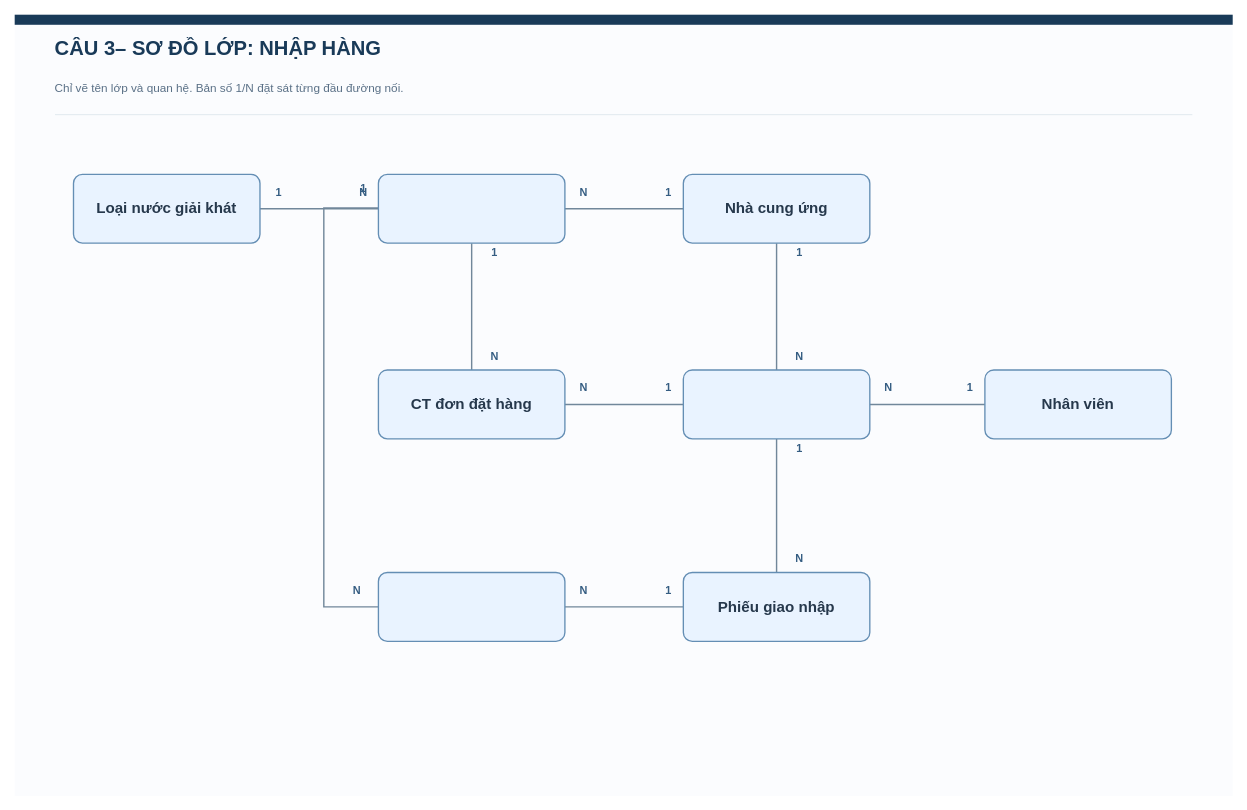
Some shapes in this 1247 by 810 pixel diagram are drawn without their labels. Each missing label, with the centre of its shape:
"CT phiếu giao nhập" goes at (x=471, y=606).
"Nước giải khát" goes at (x=471, y=208).
"Đơn đặt hàng" goes at (x=776, y=404).
